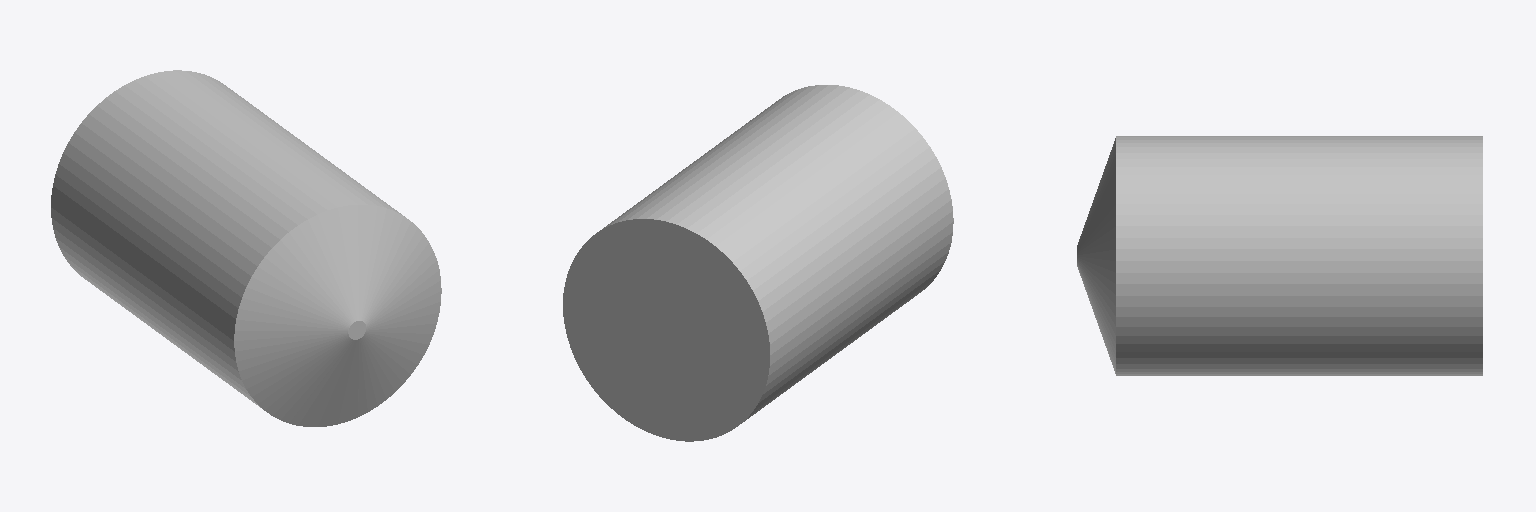
Rendered from Candle4.obj.
3 views of the same model, side by side, from view 1: azimuth 30°, elevation 25°; view 2: azimuth 150°, elevation 25°; view 3: azimuth 270°, elevation 25° (orthographic).
Visible parts, largest first — view 1: Candle4_Cylinder.006; view 2: Candle4_Cylinder.006; view 3: Candle4_Cylinder.006.
Boxes of the visible parts, x1=… form: Candle4_Cylinder.006: x1=51, y1=70, x2=441, y2=426; Candle4_Cylinder.006: x1=563, y1=85, x2=953, y2=441; Candle4_Cylinder.006: x1=1077, y1=136, x2=1482, y2=375.
Bounding box in the file's own units: 0.1106 × 0.1106 × 0.1872.